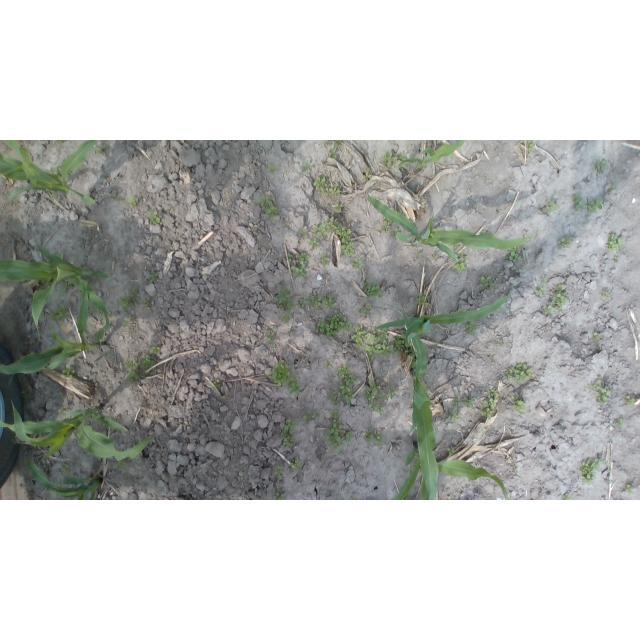Maize: (366, 189, 530, 263), (1, 243, 112, 342), (0, 281, 108, 378), (0, 400, 154, 464), (391, 307, 439, 500), (375, 288, 513, 348), (389, 441, 510, 500), (0, 141, 98, 208), (25, 460, 104, 501), (399, 140, 468, 170)
Weeds: (323, 409, 355, 452), (330, 217, 355, 258), (366, 328, 395, 361), (316, 313, 351, 337), (337, 365, 357, 404), (580, 458, 605, 485), (506, 363, 533, 386), (268, 361, 290, 388), (589, 380, 611, 407), (256, 195, 278, 220), (276, 284, 295, 312), (281, 419, 298, 449), (364, 428, 386, 447), (552, 284, 567, 311), (364, 380, 381, 402), (352, 325, 368, 348), (607, 233, 625, 253), (52, 303, 71, 321), (363, 280, 382, 298), (126, 359, 140, 383), (119, 294, 140, 310), (392, 334, 407, 355), (481, 397, 495, 419), (452, 250, 466, 272), (539, 200, 558, 216), (313, 176, 328, 196), (512, 396, 527, 415), (287, 378, 303, 395), (571, 194, 588, 210), (313, 223, 330, 238), (479, 276, 495, 291), (383, 152, 398, 168), (147, 211, 163, 226), (506, 249, 523, 263), (415, 290, 429, 307), (291, 265, 308, 279), (303, 410, 321, 423), (445, 411, 461, 425), (558, 235, 573, 249), (295, 251, 310, 265), (371, 402, 385, 416), (267, 329, 278, 346), (588, 199, 603, 211), (142, 356, 155, 369), (62, 364, 75, 377), (290, 457, 302, 471), (323, 295, 335, 309), (360, 301, 372, 315), (592, 160, 606, 172), (60, 461, 71, 476), (330, 184, 341, 198), (320, 253, 330, 268), (96, 144, 111, 154), (465, 322, 477, 334), (488, 390, 500, 402), (308, 238, 320, 250), (311, 296, 322, 309), (463, 397, 475, 408), (535, 284, 546, 296), (300, 162, 312, 173), (274, 466, 283, 480), (107, 194, 125, 201), (150, 345, 161, 355), (280, 314, 292, 323), (353, 258, 362, 270), (389, 386, 397, 399), (625, 395, 635, 405), (129, 197, 139, 207), (543, 306, 554, 315), (267, 164, 276, 175), (526, 140, 534, 152), (143, 297, 152, 307), (300, 299, 310, 308), (410, 349, 415, 367), (615, 419, 625, 428), (391, 227, 399, 238), (276, 493, 288, 500), (332, 392, 339, 404), (150, 274, 159, 283), (625, 485, 634, 494), (329, 151, 337, 161), (333, 140, 343, 148), (335, 203, 343, 213), (380, 224, 390, 232), (593, 332, 602, 340), (399, 153, 407, 162), (384, 217, 393, 225), (601, 291, 611, 298), (380, 394, 388, 402), (213, 380, 221, 388), (447, 447, 455, 455), (608, 185, 616, 193), (363, 173, 372, 180), (287, 253, 293, 263), (122, 321, 130, 328), (325, 359, 332, 367), (563, 493, 571, 500), (300, 228, 308, 235), (118, 460, 124, 468), (325, 140, 333, 146), (132, 286, 138, 293), (58, 408, 64, 415), (282, 223, 290, 228), (287, 332, 294, 337), (453, 399, 460, 404), (433, 344, 439, 349), (499, 340, 504, 346), (615, 256, 620, 262), (542, 275, 546, 281), (55, 141, 63, 144), (454, 244, 459, 248), (254, 229, 258, 232)
